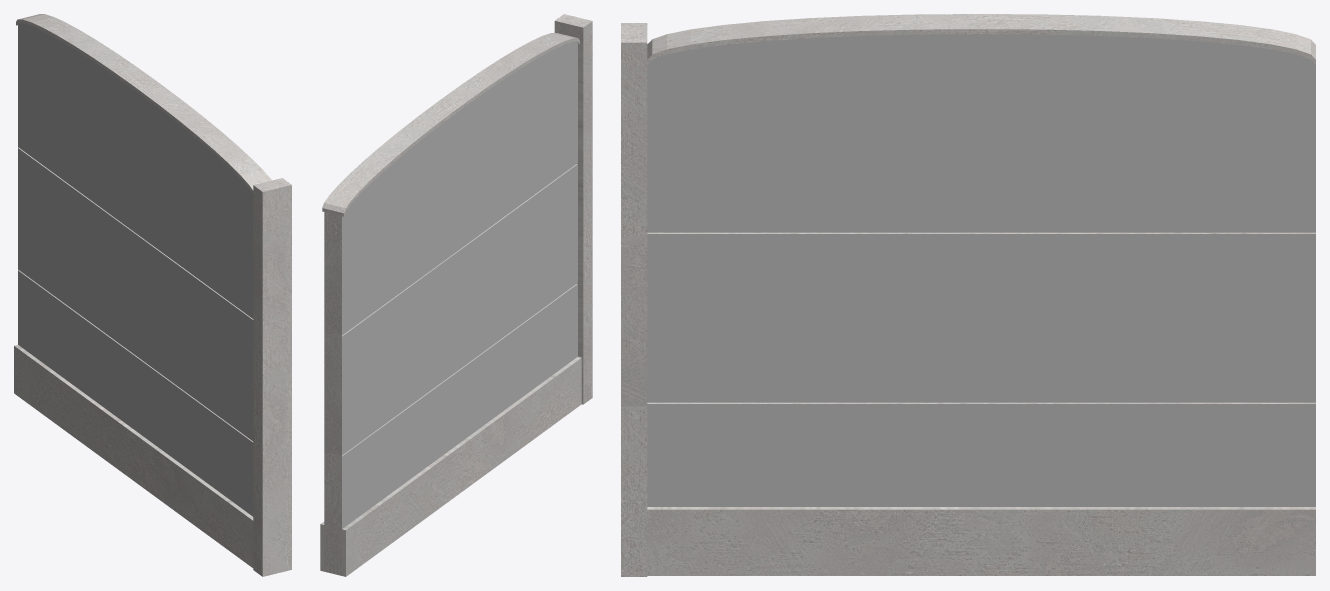
Rendered from Fence.fbx.
The picture shows the model from 3 angles, left to right: view 1: azimuth 30°, elevation 25°; view 2: azimuth 150°, elevation 25°; view 3: azimuth 270°, elevation 25°; orthographic projection. The views are drawn at different scales.
Parts seen in each view (by area): view 1: wall; view 2: wall; view 3: wall.
Part boxes in pixels (x1=…): wall: x1=14, y1=14, x2=291, y2=576; wall: x1=320, y1=14, x2=592, y2=576; wall: x1=621, y1=14, x2=1315, y2=576.
Size of the model in its own units: 33.3 by 428 by 494.
